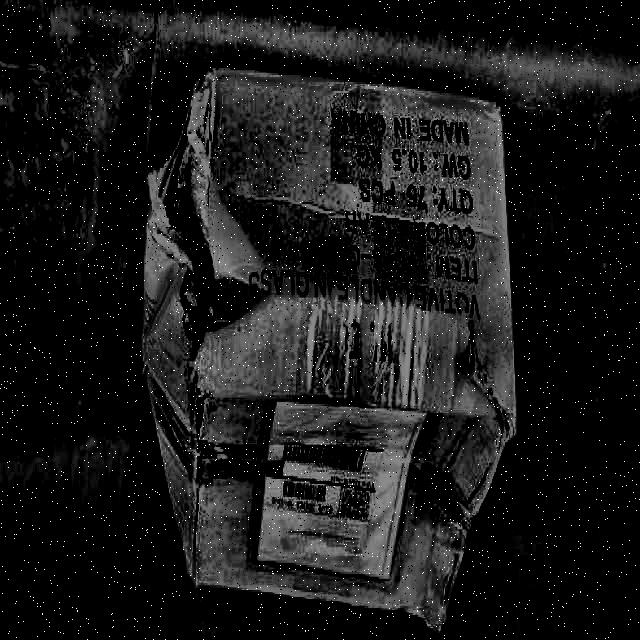box: (130, 54, 526, 632)
hole: (158, 122, 240, 338)
